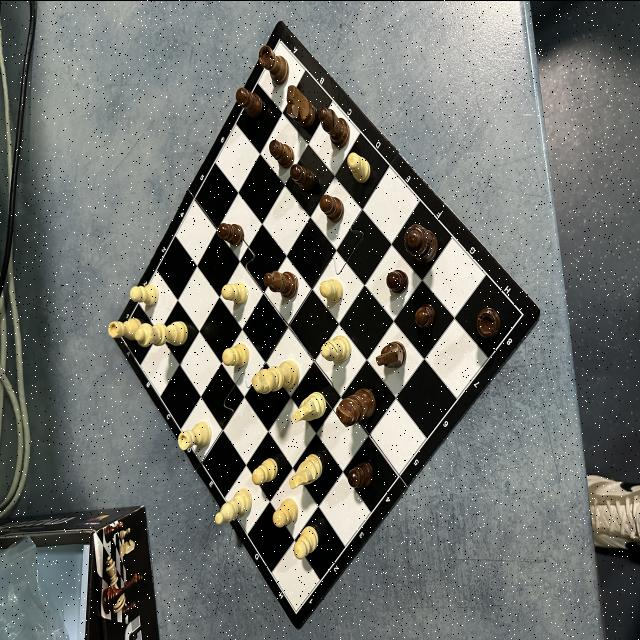Black-Bishop: (318, 106, 351, 148), (263, 269, 298, 298)
Black-King: (336, 387, 376, 426)
Black-Knight: (286, 84, 316, 128), (375, 340, 407, 368)
Black-Pawn: (236, 85, 264, 116), (268, 138, 294, 168), (290, 163, 316, 191), (319, 194, 345, 222), (348, 461, 373, 487), (217, 222, 244, 246), (414, 302, 436, 328), (386, 268, 408, 293)
Black-Queen: (404, 224, 438, 264)
Black-Rook: (259, 44, 289, 84), (476, 306, 501, 338)
White-Bishop: (215, 486, 252, 524), (320, 335, 351, 361)
White-King: (252, 358, 300, 394)
White-Knight: (289, 452, 323, 488), (292, 390, 326, 422)
White-Pawn: (293, 525, 319, 559), (346, 150, 371, 182), (272, 497, 298, 527), (252, 456, 278, 484), (130, 282, 158, 306), (222, 342, 250, 366), (220, 281, 248, 303), (320, 278, 344, 302)
White-Queen: (134, 319, 188, 346)
White-Rook: (178, 419, 212, 449), (108, 316, 142, 340)
